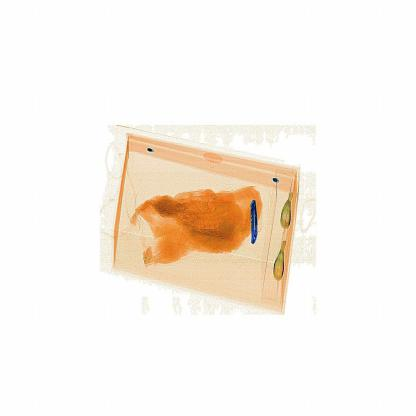knife: (242, 190, 262, 244)
